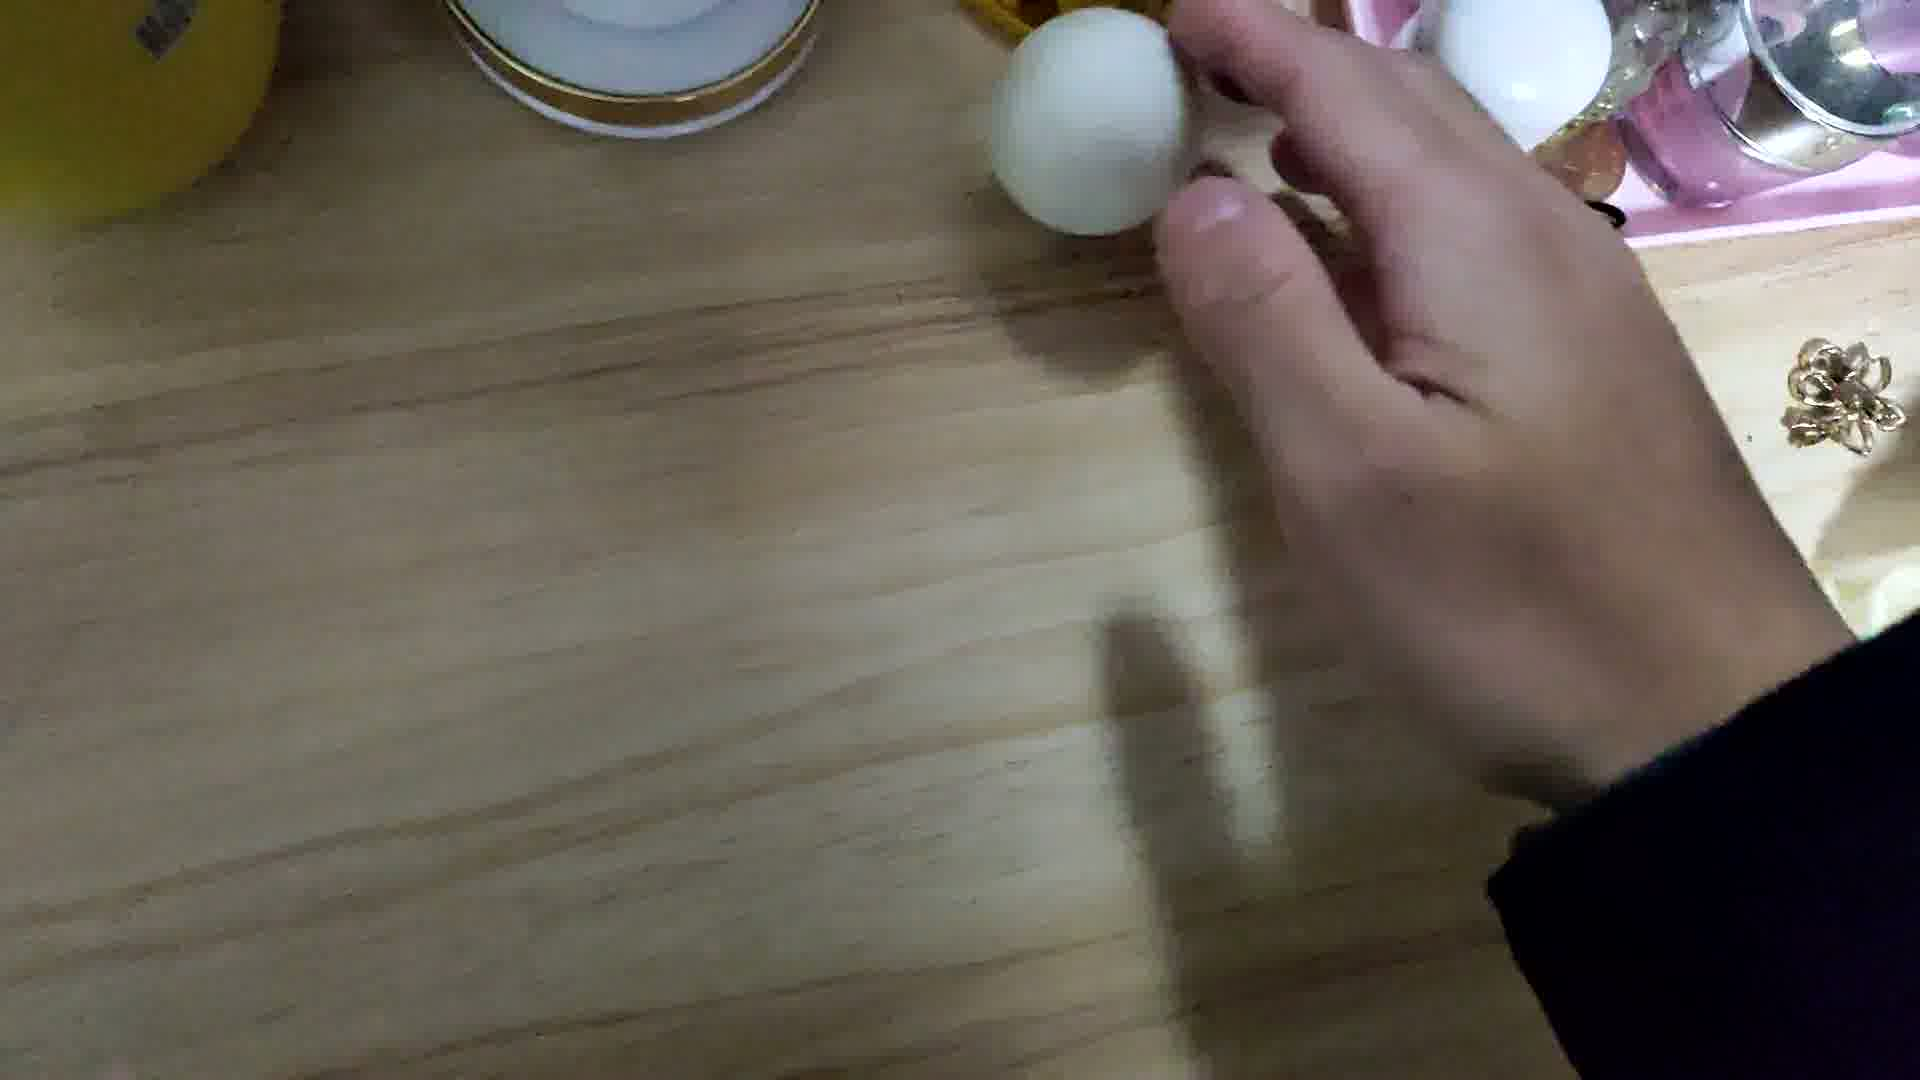Ball: (985, 3, 1204, 235)
